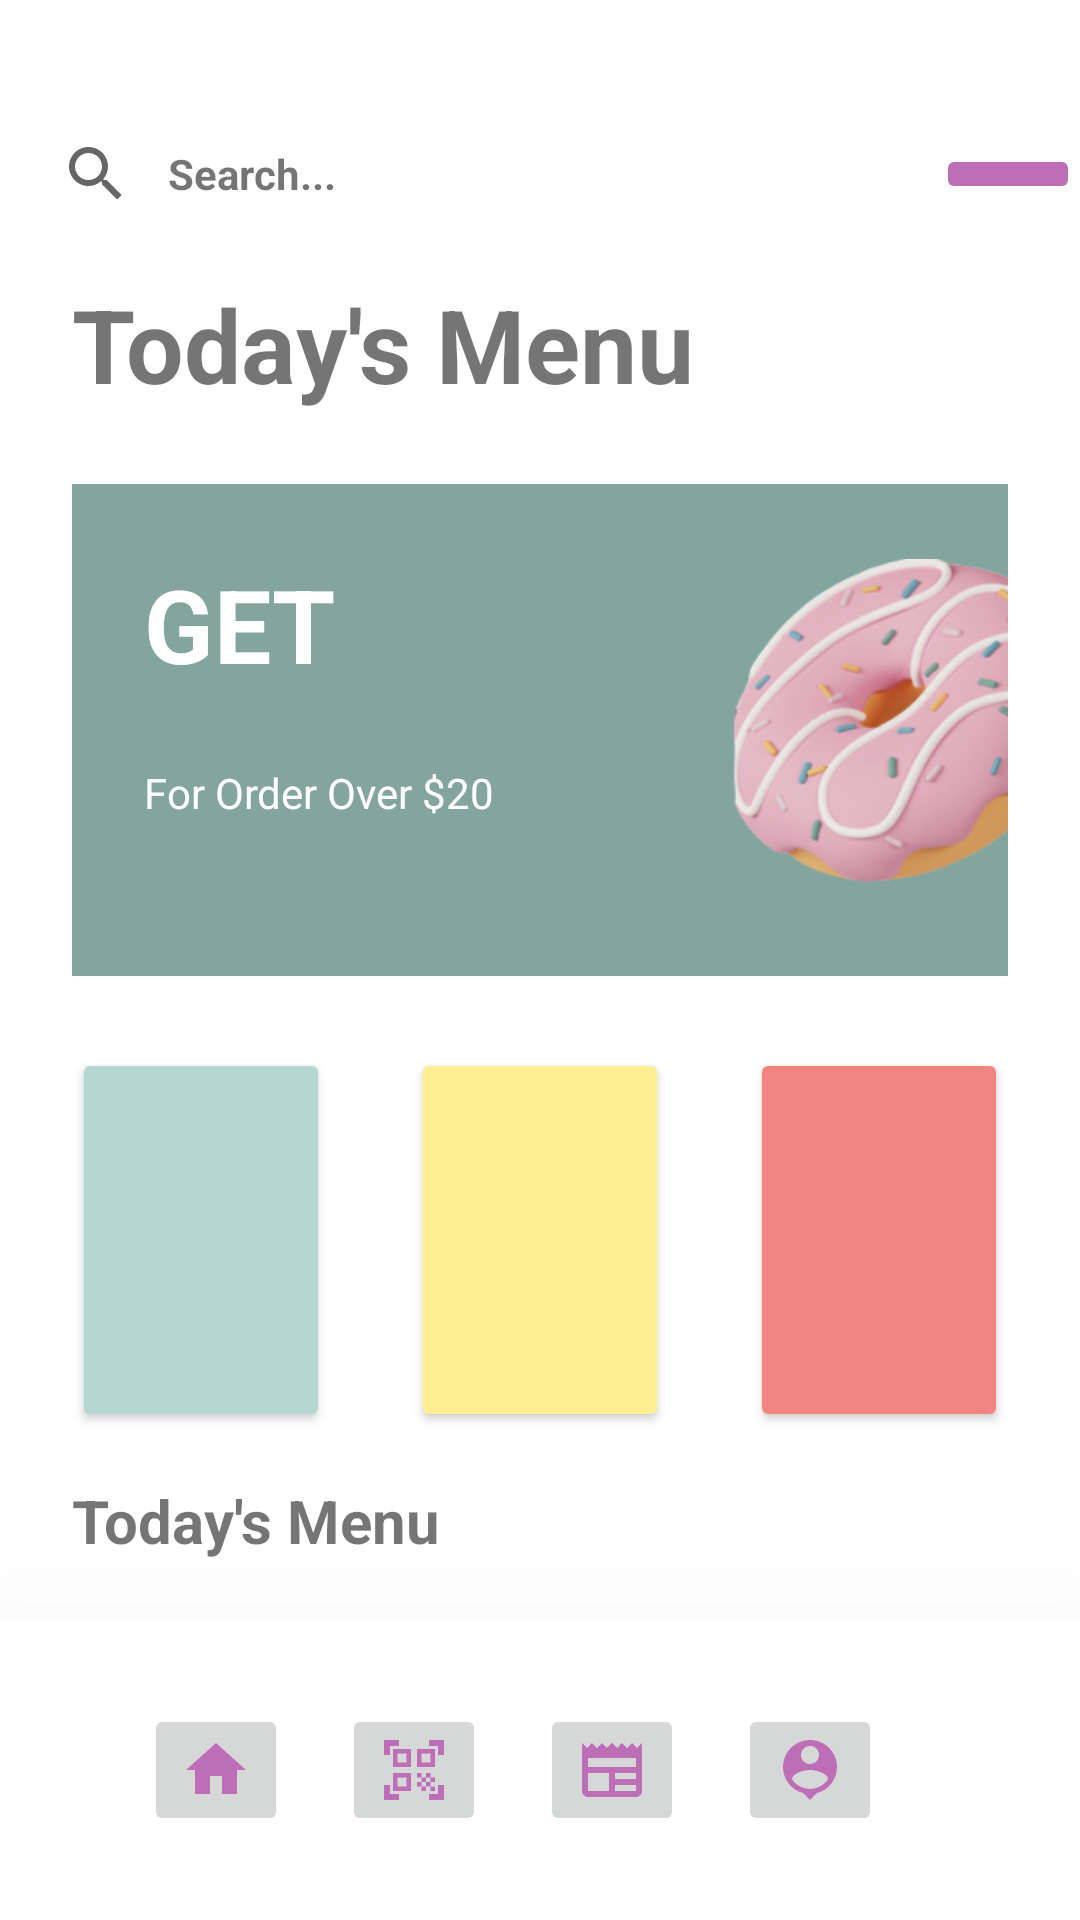

Icon click points for this 1080*1920 phone screenshot, format (x,y):
home: (216,1770)
newspaper: (612,1770)
person pin: (810,1770)
qr code scanner: (414,1770)
